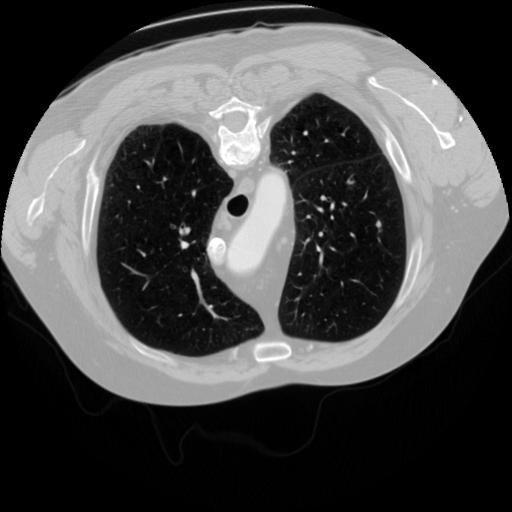nodule: (371, 219, 385, 233)
